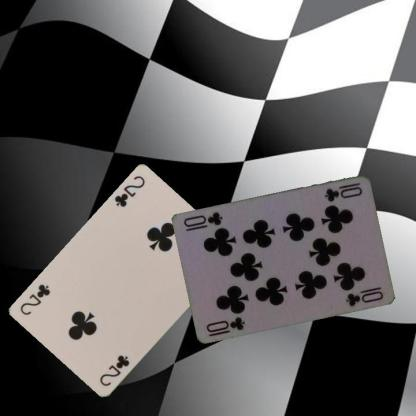10c: (204, 313, 247, 338), (322, 180, 364, 202)
2c: (97, 352, 131, 388), (112, 173, 146, 209)
